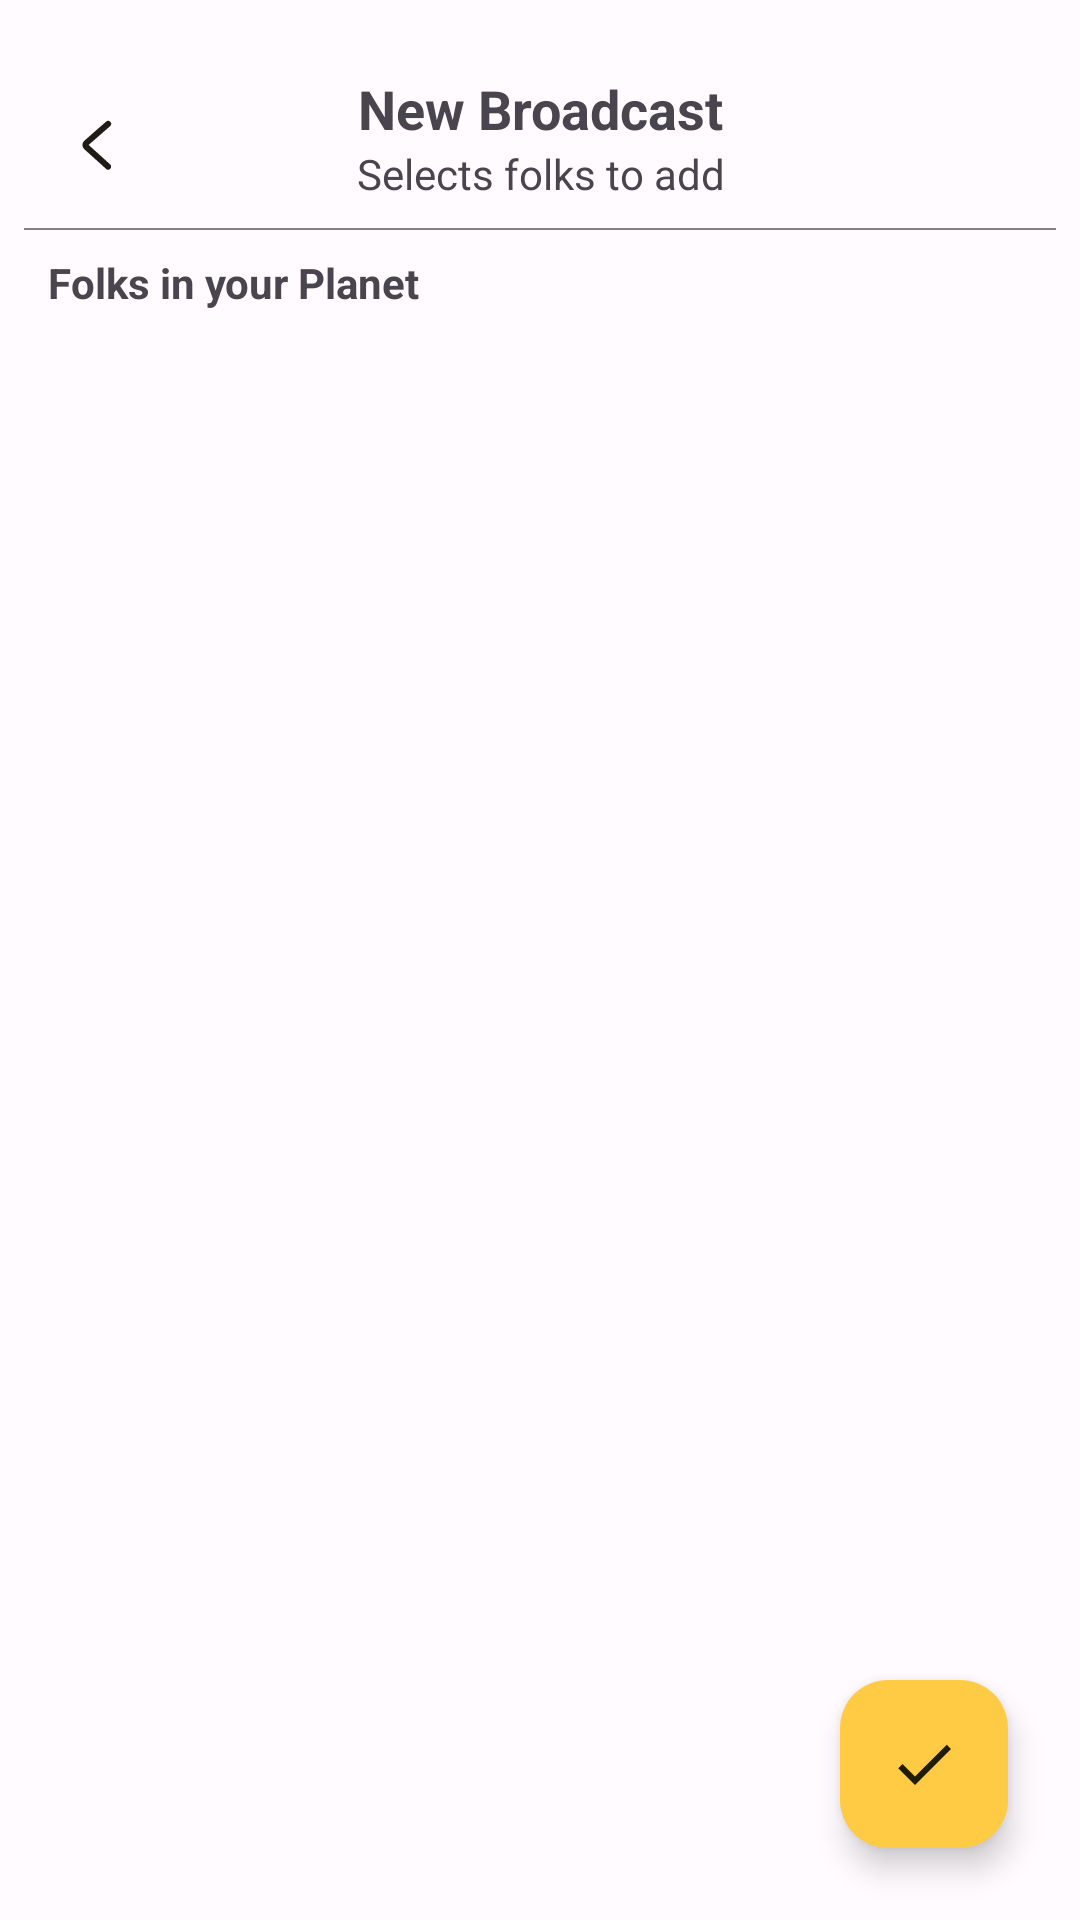

Icons on this 1080 x 1920 Android screen, each with the point to tap as (x=x, y=y):
back: (x=97, y=145)
check: (x=924, y=1764)
